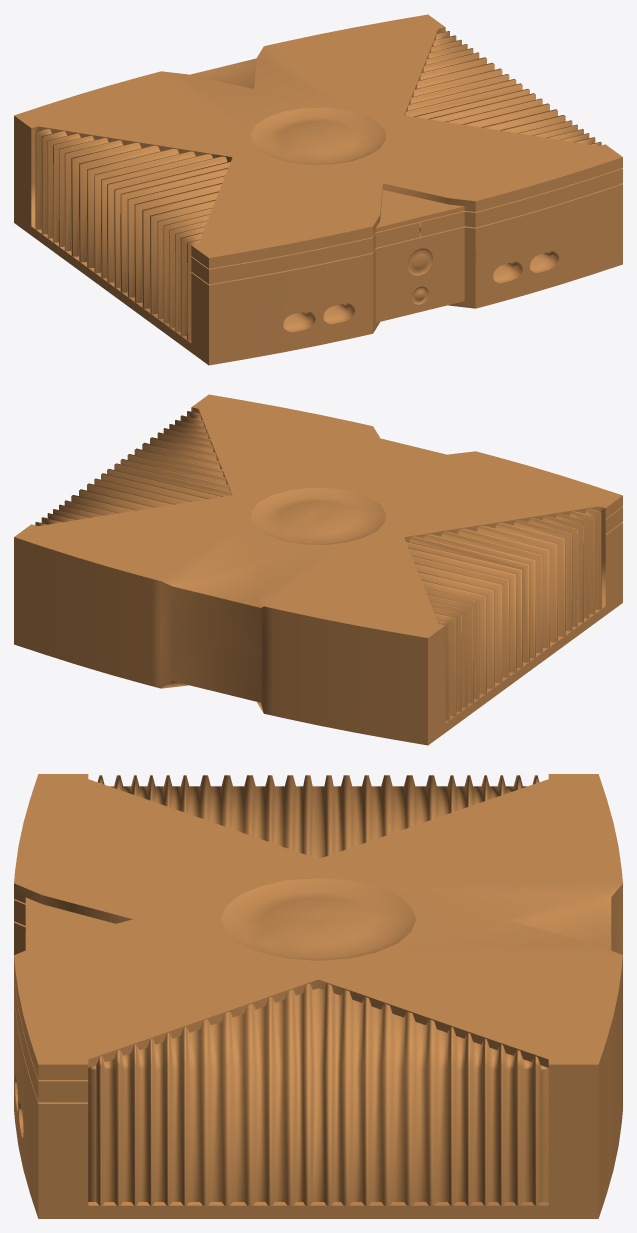
File: Xbox_OG_box.fbx
3 views of the same model, one above another, from view 1: azimuth 30°, elevation 25°; view 2: azimuth 150°, elevation 25°; view 3: azimuth 270°, elevation 25° (orthographic). The views are drawn at different scales.
Parts seen in each view (by area): view 1: mesh_xbox; view 2: mesh_xbox; view 3: mesh_xbox.
Part boxes in pixels (x1,y1,x2,y2): mesh_xbox: (14, 14, 622, 365); mesh_xbox: (14, 394, 622, 745); mesh_xbox: (14, 774, 622, 1218).
Bounding box in the file's own units: 49.65 × 12.36 × 43.99.
